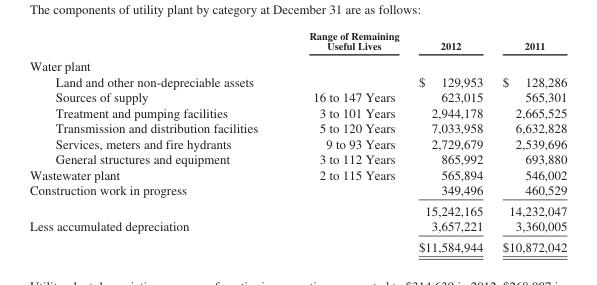table: (28, 29, 566, 253)
table column: (28, 29, 282, 253), (282, 29, 408, 253), (408, 29, 492, 253), (492, 29, 566, 253)
table column header: (28, 29, 566, 54)
table projected row header: (28, 54, 566, 73)
table row: (28, 29, 566, 54), (28, 54, 566, 73), (28, 199, 566, 218), (28, 181, 566, 199), (28, 218, 566, 236), (28, 236, 566, 253), (28, 88, 566, 104), (28, 119, 566, 135), (28, 150, 566, 166), (28, 73, 566, 88), (28, 104, 566, 119), (28, 135, 566, 150), (28, 166, 566, 181)
table spanning cell: (28, 181, 282, 218), (28, 218, 282, 253)
